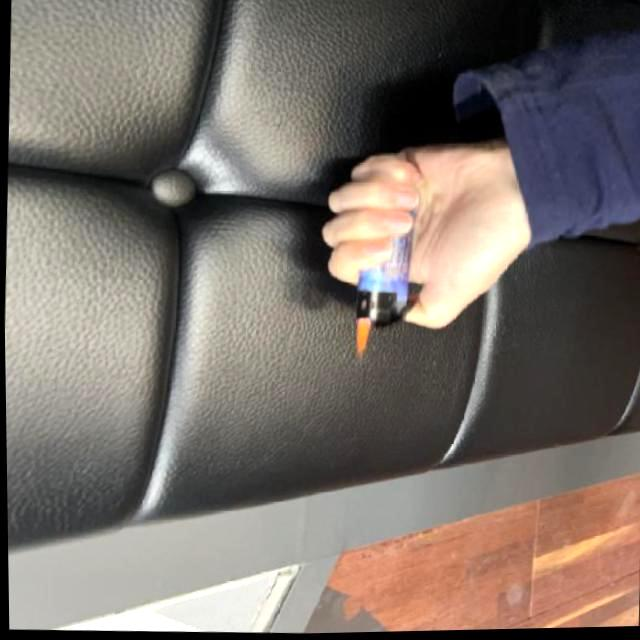fire: (350, 318, 374, 362)
